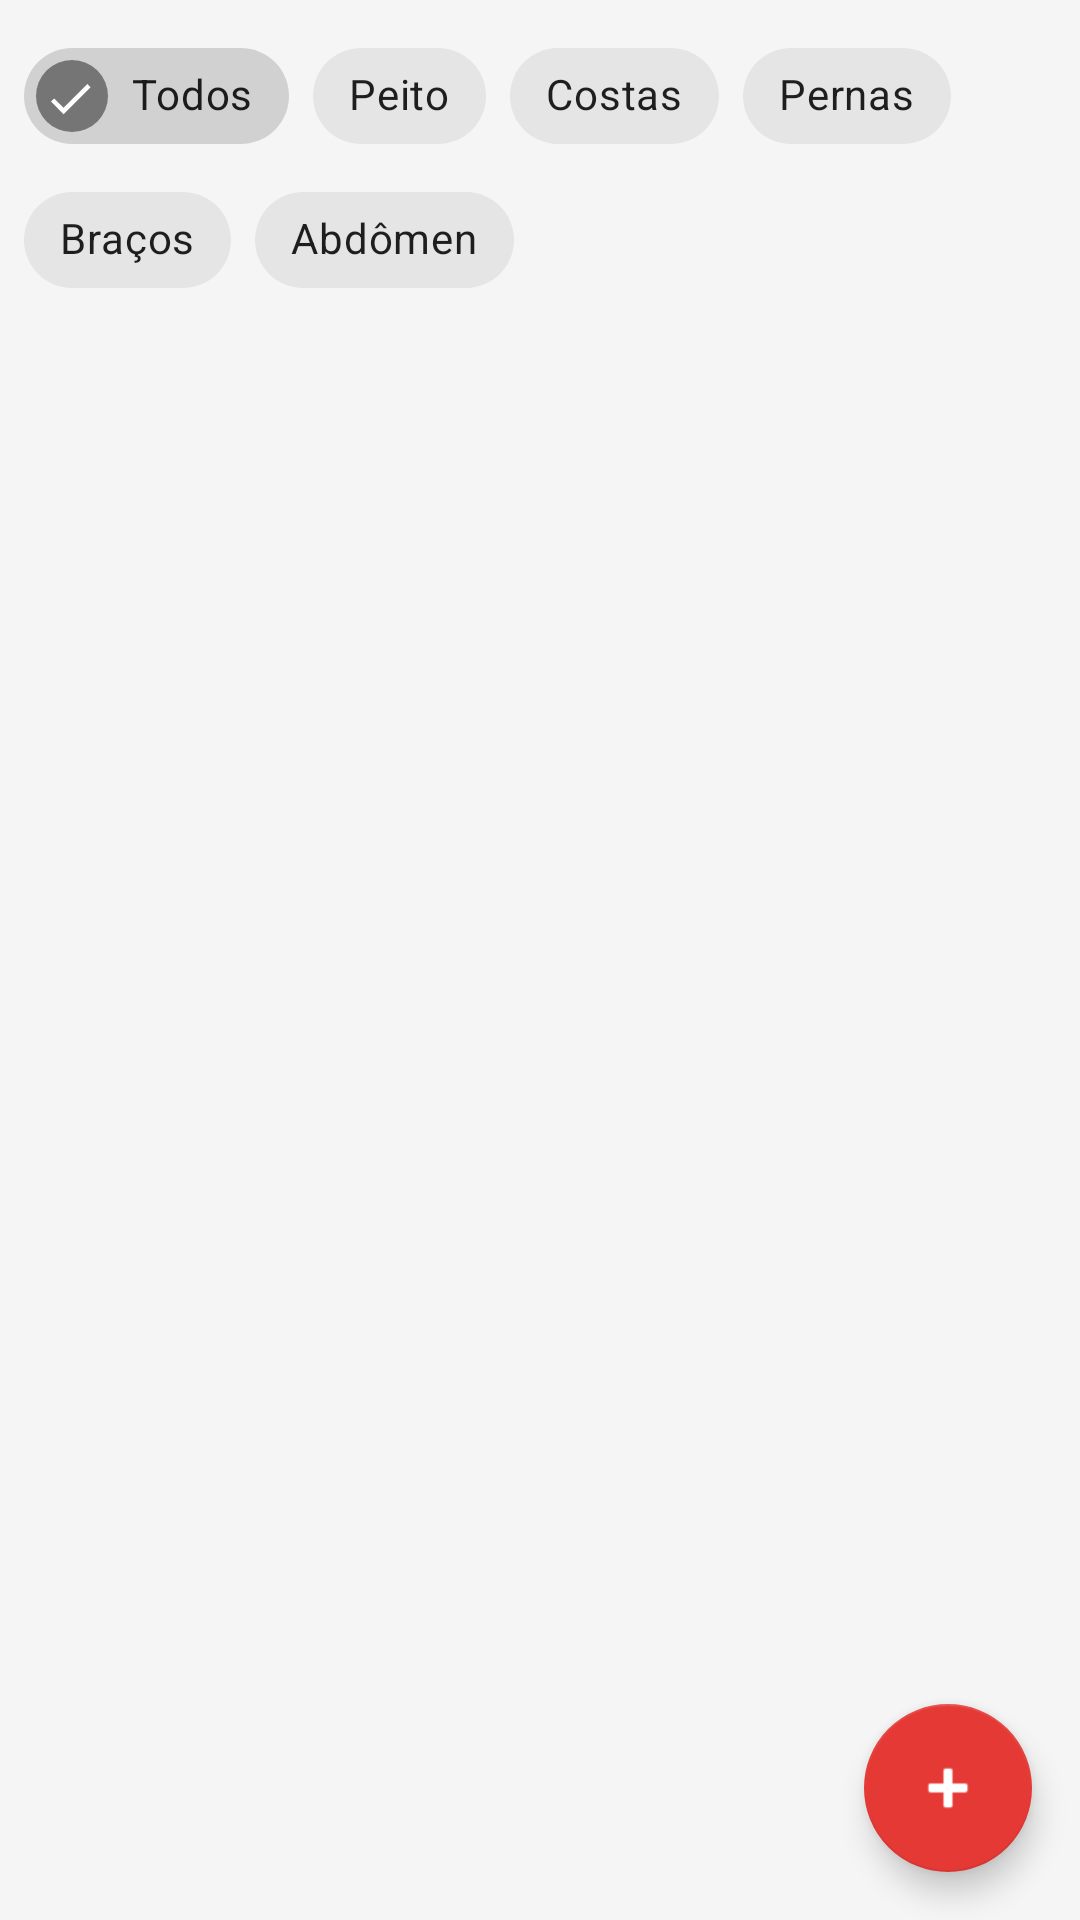

Icons on this 1080px×1920px Android screen, each with the point to tap as (x=x, y=y):
Adicionar: (x=948, y=1788)
